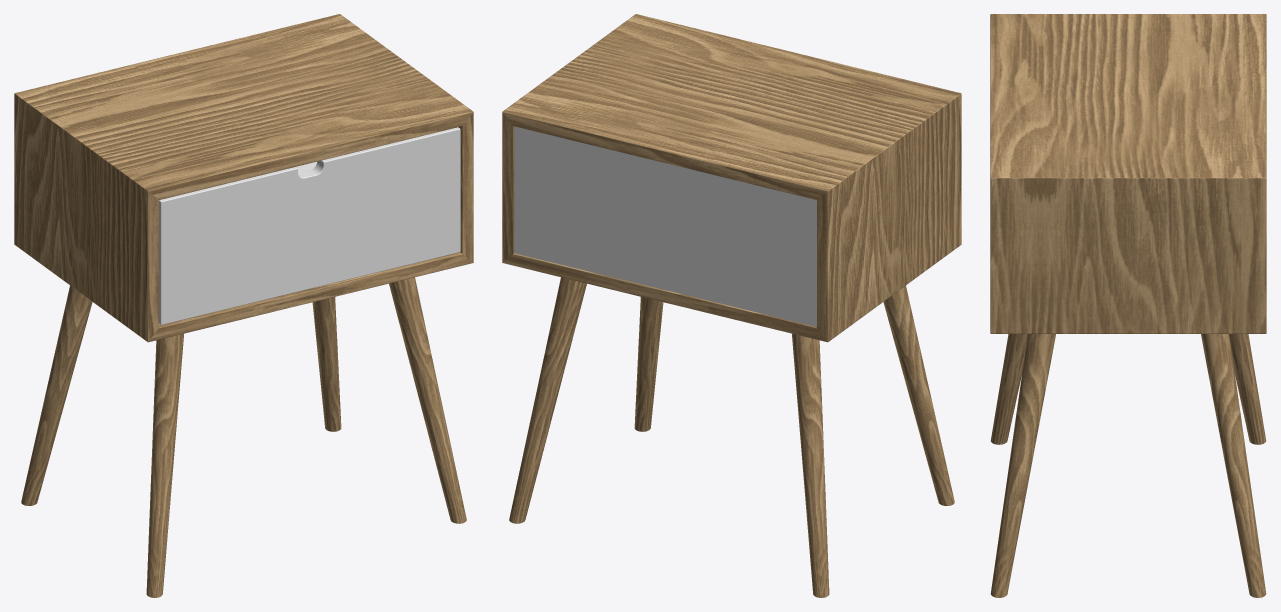
File: modern-nightstand.fbx
The picture shows the model from 3 angles, left to right: view 1: azimuth 30°, elevation 25°; view 2: azimuth 150°, elevation 25°; view 3: azimuth 270°, elevation 25°; orthographic projection. The views are drawn at different scales.
Parts seen in each view (by area): view 1: frame.001, drawer.001, legs.001; view 2: frame.001, back.001, legs.001; view 3: frame.001, legs.001.
Boxes of the visible parts, <box> form: frame.001: <box>14,14,473,342</box>; drawer.001: <box>159,127,460,324</box>; legs.001: <box>21,277,466,597</box>; frame.001: <box>502,14,961,342</box>; back.001: <box>514,126,816,326</box>; legs.001: <box>509,277,954,597</box>; frame.001: <box>990,14,1266,333</box>; legs.001: <box>990,334,1266,597</box>.
Bounding box in the file's own units: 45 × 54 × 32.
2 materials, 1 textured.
